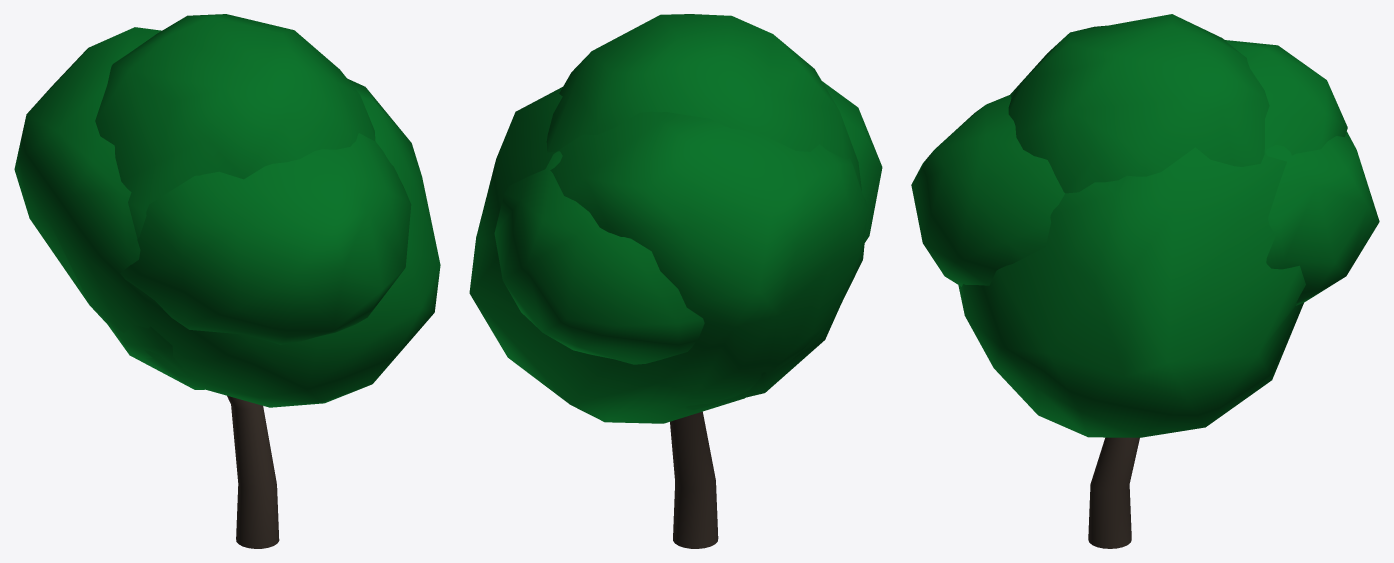
Rendered from Tree1.fbx.
The picture shows the model from 3 angles, left to right: view 1: azimuth 30°, elevation 25°; view 2: azimuth 150°, elevation 25°; view 3: azimuth 270°, elevation 25°; orthographic projection. The views are drawn at different scales.
Parts seen in each view (by area): view 1: Tree1; view 2: Tree1; view 3: Tree1.
Part boxes in pixels (x1=…): Tree1: x1=14, y1=14, x2=440, y2=548; Tree1: x1=469, y1=14, x2=882, y2=548; Tree1: x1=911, y1=14, x2=1379, y2=548.
Bounding box in the file's own units: 12.28 × 16.96 × 14.23.
